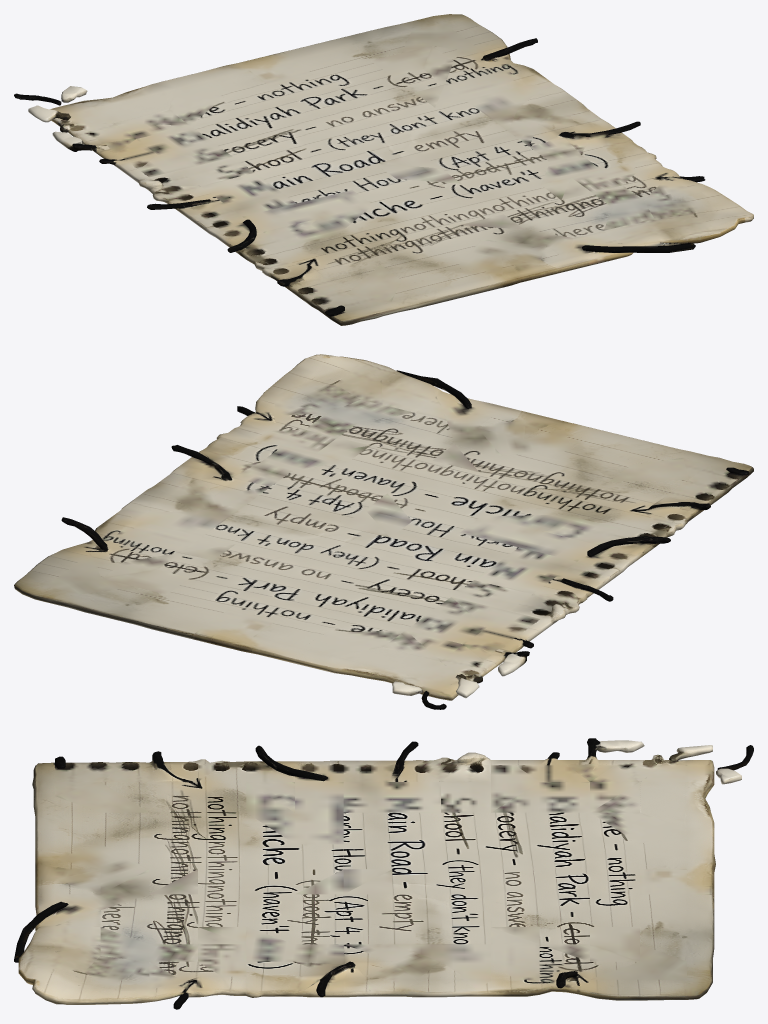
Rendered from Meshy_AI_Notebook_of_Empty_Pla_0313130047_texture.fbx.
3 views of the same model, one above another, from view 1: azimuth 30°, elevation 25°; view 2: azimuth 150°, elevation 25°; view 3: azimuth 270°, elevation 25° (orthographic). The views are drawn at different scales.
Parts seen in each view (by area): view 1: Mesh_0; view 2: Mesh_0; view 3: Mesh_0.
Part boxes in pixels (x1,y1,x2,y2): Mesh_0: (14,14,753,325); Mesh_0: (14,354,753,709); Mesh_0: (14,738,753,1009).
Size of the model in its own units: 157 by 7.44 by 191.
1 material, 1 textured.
